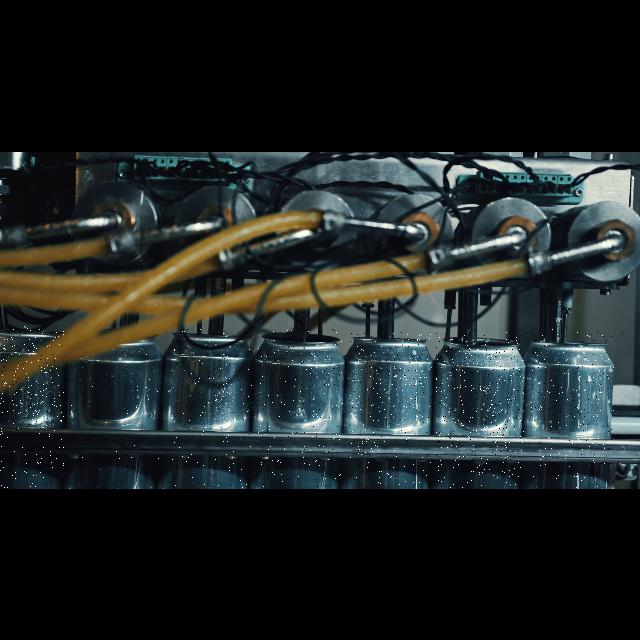empty: (70, 326, 160, 488), (436, 332, 524, 488), (258, 328, 342, 488), (530, 328, 614, 488), (172, 328, 254, 488), (349, 330, 431, 488), (0, 326, 64, 488)
